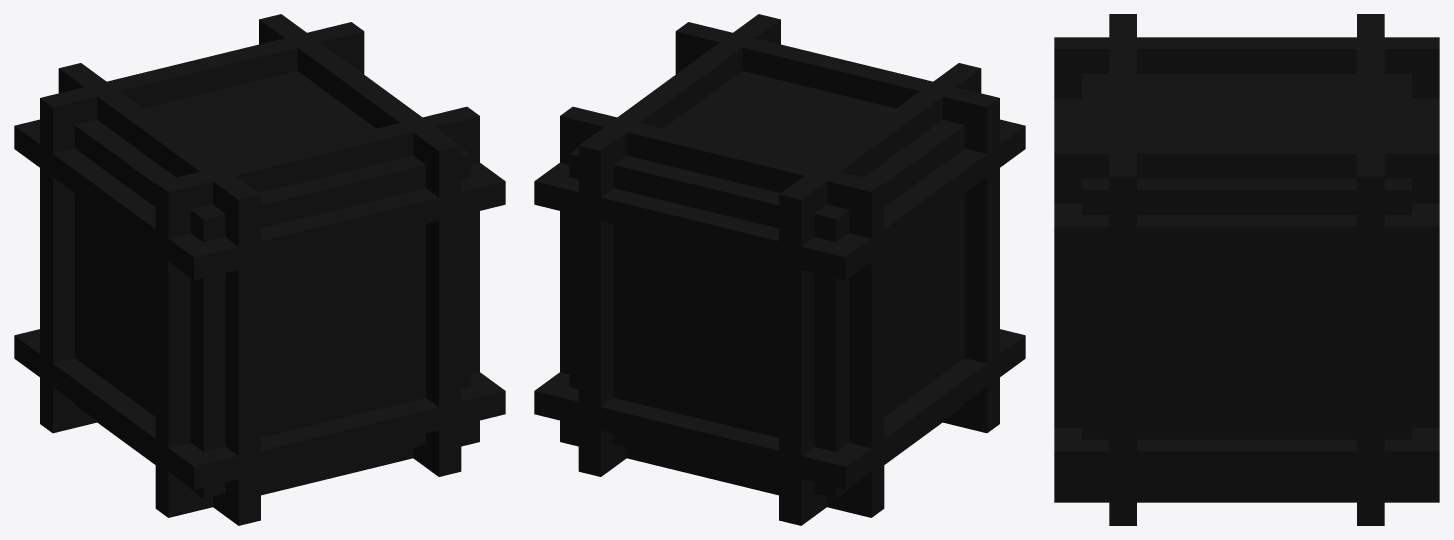
The model's file is ml_scalar_value_14.obj.
3 renders of one model, left to right at view 1: azimuth 30°, elevation 25°; view 2: azimuth 150°, elevation 25°; view 3: azimuth 270°, elevation 25°, orthographic. The views are drawn at different scales.
Parts seen in each view (by area): view 1: ml_scalar_value_14.001; view 2: ml_scalar_value_14.001; view 3: ml_scalar_value_14.001.
Boxes of the visible parts, x1=… form: ml_scalar_value_14.001: x1=14, y1=14, x2=505, y2=525; ml_scalar_value_14.001: x1=534, y1=14, x2=1025, y2=525; ml_scalar_value_14.001: x1=1054, y1=14, x2=1439, y2=525.
Size of the model in its own units: 0.7 by 0.7 by 0.7.
